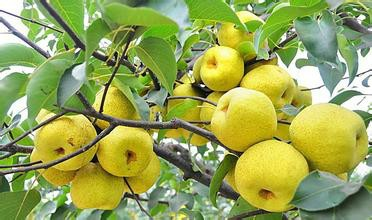pear: (289, 103, 368, 171), (234, 139, 308, 211), (208, 87, 277, 150), (34, 110, 97, 170), (166, 79, 217, 143), (95, 124, 151, 175), (69, 158, 124, 209), (239, 66, 295, 112), (28, 137, 79, 185), (217, 10, 264, 60), (90, 84, 137, 128), (116, 148, 160, 194), (200, 45, 244, 90), (200, 91, 231, 130)
